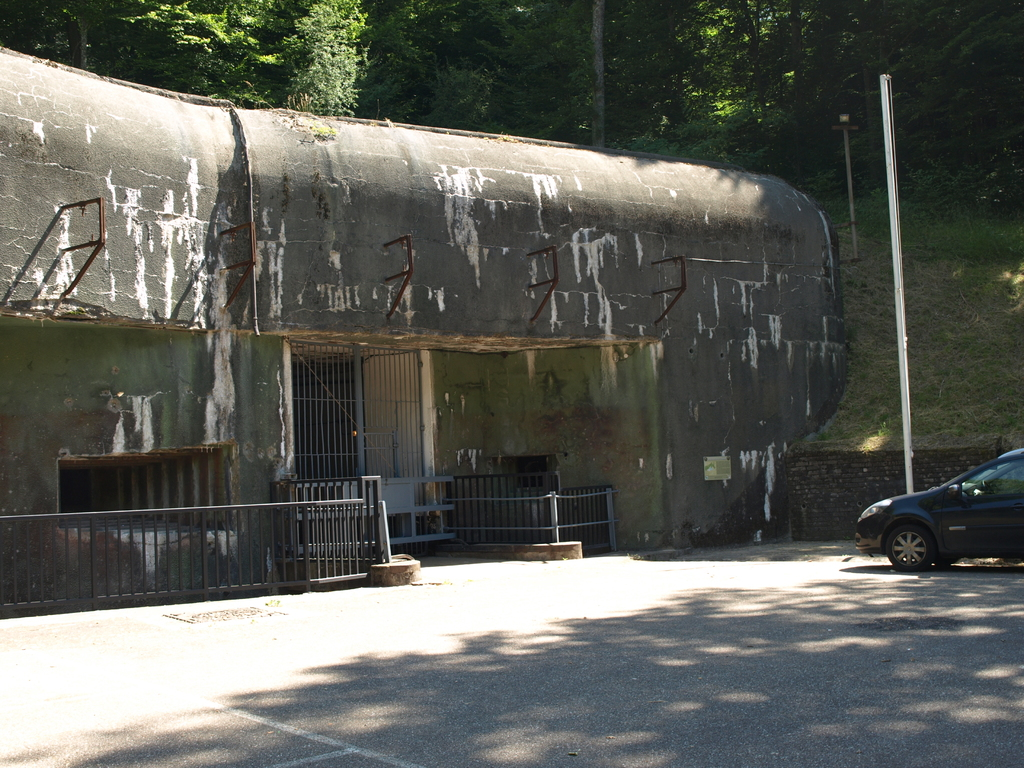Car: (857, 441, 1024, 580)
